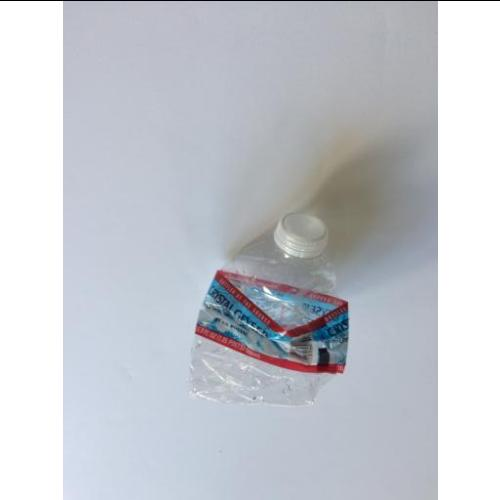plastic: (184, 208, 351, 407)
